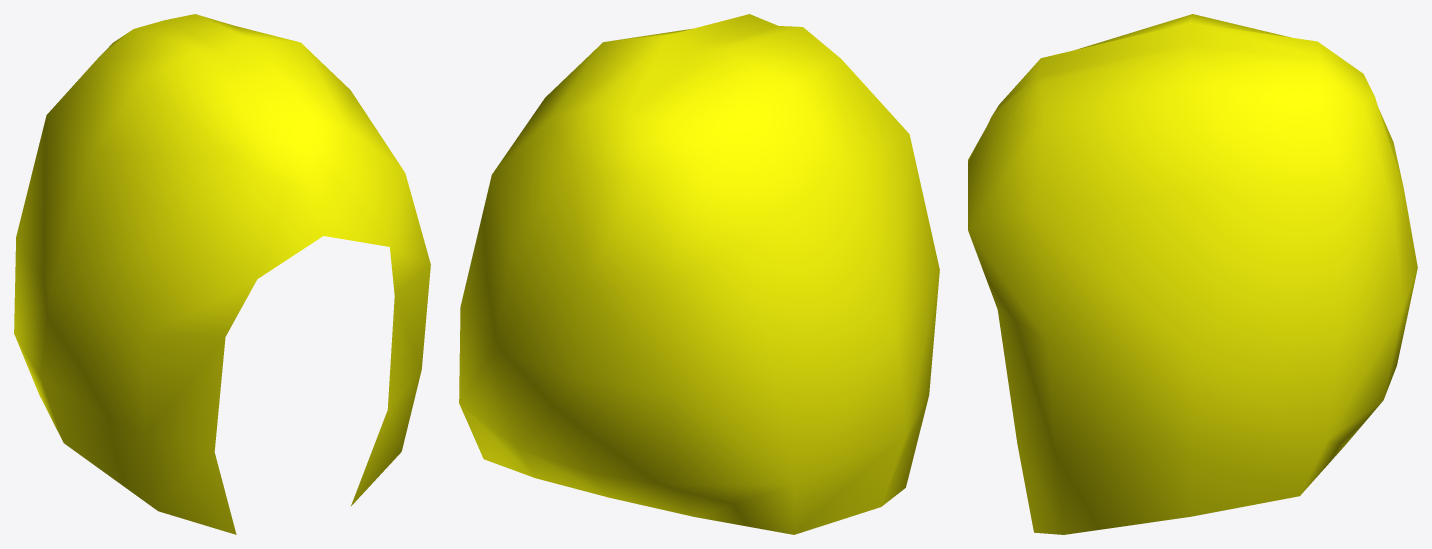
File: hair_BobCut3.glb
3 renders of one model, left to right at view 1: azimuth 30°, elevation 25°; view 2: azimuth 150°, elevation 25°; view 3: azimuth 270°, elevation 25°, orthographic. The views are drawn at different scales.
Parts seen in each view (by area): view 1: NewBobHairVariant2; view 2: NewBobHairVariant2; view 3: NewBobHairVariant2.
Boxes of the visible parts, <box> form: NewBobHairVariant2: <box>14,14,430,534</box>; NewBobHairVariant2: <box>459,14,939,534</box>; NewBobHairVariant2: <box>968,14,1417,534</box>.
Size of the model in its own units: 0.6478 by 0.7244 by 0.6332.
Materials: 1 (1 with a texture image).
